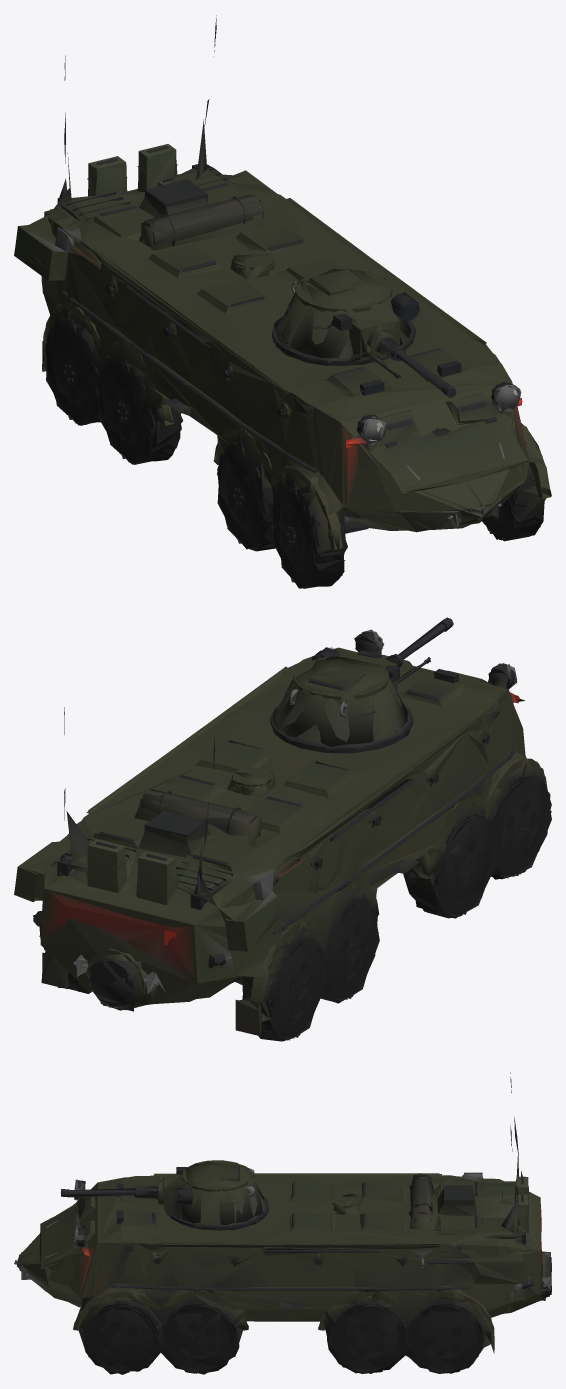
The model's file is btr60.glb.
The picture shows the model from 3 angles, top to bottom: view 1: azimuth 30°, elevation 25°; view 2: azimuth 150°, elevation 25°; view 3: azimuth 270°, elevation 25°; orthographic projection. The views are drawn at different scales.
Visible parts, largest first — view 1: L1_04_hull_opaque, L2_06_hull_opaque, L0_01_hull_opaque, L1_05_turret_opaque, L2_07_turret_opaque, L0_02_turret_opaque; view 2: L1_04_hull_opaque, L2_06_hull_opaque, L0_01_hull_opaque, L1_05_turret_opaque, L2_07_turret_opaque, L0_02_turret_opaque; view 3: L1_04_hull_opaque, L2_06_hull_opaque, L0_01_hull_opaque, L1_05_turret_opaque, L2_07_turret_opaque, L0_02_turret_opaque.
Boxes of the visible parts, x1,y1,x2,y2 form: L1_04_hull_opaque: [14, 21, 551, 588]; L2_06_hull_opaque: [28, 15, 544, 588]; L0_01_hull_opaque: [16, 144, 551, 587]; L1_05_turret_opaque: [273, 269, 460, 394]; L2_07_turret_opaque: [272, 273, 411, 367]; L0_02_turret_opaque: [272, 268, 461, 397]; L1_04_hull_opaque: [15, 631, 546, 1041]; L2_06_hull_opaque: [14, 649, 551, 1041]; L0_01_hull_opaque: [14, 629, 551, 1040]; L1_05_turret_opaque: [271, 619, 458, 752]; L2_07_turret_opaque: [275, 655, 418, 752]; L0_02_turret_opaque: [270, 617, 458, 753]; L1_04_hull_opaque: [17, 1077, 551, 1374]; L2_06_hull_opaque: [17, 1072, 551, 1374]; L0_01_hull_opaque: [14, 1167, 551, 1374]; L1_05_turret_opaque: [61, 1163, 267, 1229]; L2_07_turret_opaque: [155, 1162, 263, 1225]; L0_02_turret_opaque: [61, 1160, 268, 1230].
Bounding box in the file's own units: 2.92 × 3.79 × 7.68.
